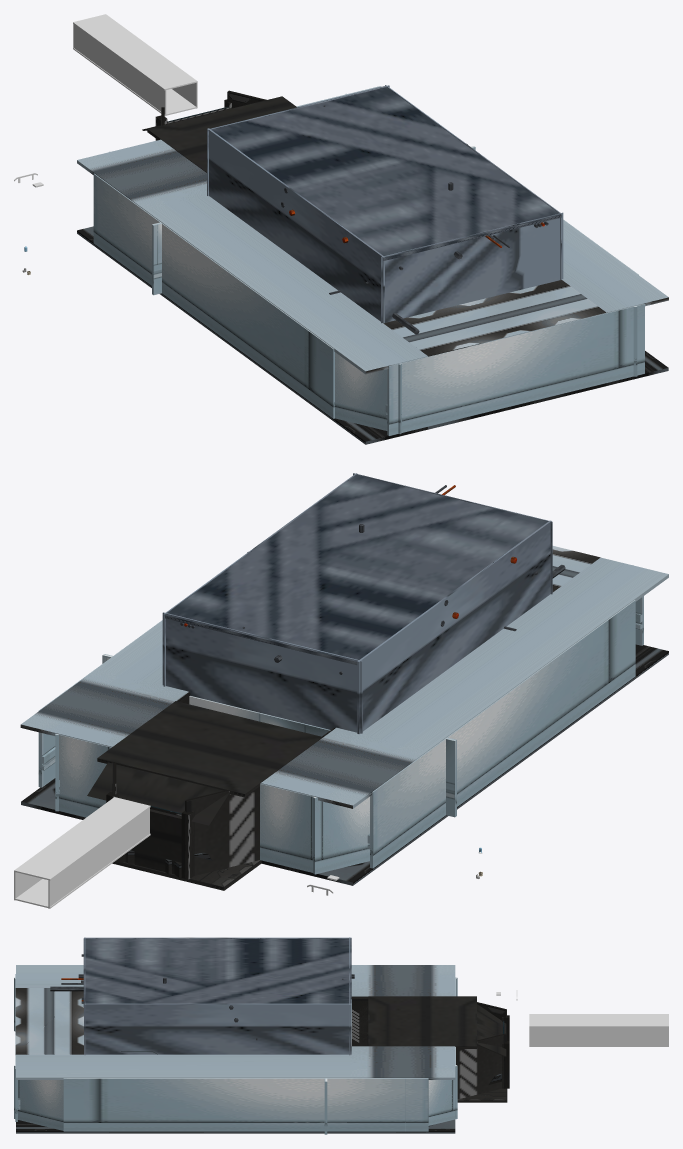
File: Tutorial-map.fbx
3 renders of one model, top to bottom at view 1: azimuth 30°, elevation 25°; view 2: azimuth 150°, elevation 25°; view 3: azimuth 270°, elevation 25°, orthographic. The views are drawn at different scales.
Visible parts, largest first — view 1: Cube.027, Cube.024, Cube.023, Cube.013, Cube.020, Cube.017, Cube.026, Cube.075, Cube.030, Cube.021, Cube.007, Cube.031 (+2 smaller); view 2: Cube.027, Cube.024, Cube.013, Cube.020, Cube.018, Cube.007, Cube.030, Cube.075, Cube.001, Cube.004, Cube.008, Cube.009 (+10 smaller); view 3: Cube.015, Cube.027, Cube.019, Cube.030, Cube.007, Cube.024, Cube.075, Cube.026, Cube.002, Cube.022, Cube.087, Cube.006 (+5 smaller).
Boxes of the visible parts, x1,y1,x2,y2 form: Cube.027: [210, 86, 561, 260]; Cube.024: [77, 139, 427, 374]; Cube.023: [385, 304, 644, 435]; Cube.013: [93, 173, 334, 418]; Cube.020: [207, 128, 384, 323]; Cube.017: [381, 212, 563, 323]; Cube.026: [383, 280, 607, 356]; Cube.075: [73, 14, 197, 116]; Cube.030: [296, 86, 668, 312]; Cube.021: [332, 347, 401, 434]; Cube.007: [147, 96, 296, 172]; Cube.031: [77, 226, 427, 444]; Cube.027: [165, 475, 547, 665]; Cube.024: [261, 557, 668, 808]; Cube.013: [367, 600, 635, 868]; Cube.020: [357, 520, 551, 733]; Cube.018: [162, 612, 362, 733]; Cube.007: [97, 701, 322, 797]; Cube.030: [20, 621, 188, 747]; Cube.075: [14, 797, 150, 908]; Cube.001: [87, 762, 229, 874]; Cube.004: [185, 783, 260, 875]; Cube.008: [260, 783, 316, 872]; Cube.009: [312, 796, 369, 874]; Cube.015: [63, 1078, 428, 1131]; Cube.027: [83, 938, 351, 1006]; Cube.019: [84, 1003, 351, 1054]; Cube.030: [16, 1046, 455, 1079]; Cube.007: [368, 996, 476, 1048]; Cube.024: [16, 965, 455, 996]; Cube.075: [529, 1014, 668, 1046]; Cube.026: [15, 988, 83, 1054]; Cube.002: [456, 1033, 506, 1099]; Cube.022: [14, 1065, 66, 1130]; Cube.087: [16, 1119, 455, 1133]; Cube.006: [405, 1065, 457, 1131].
Bounding box in the file's own units: 315 × 110 × 589.
